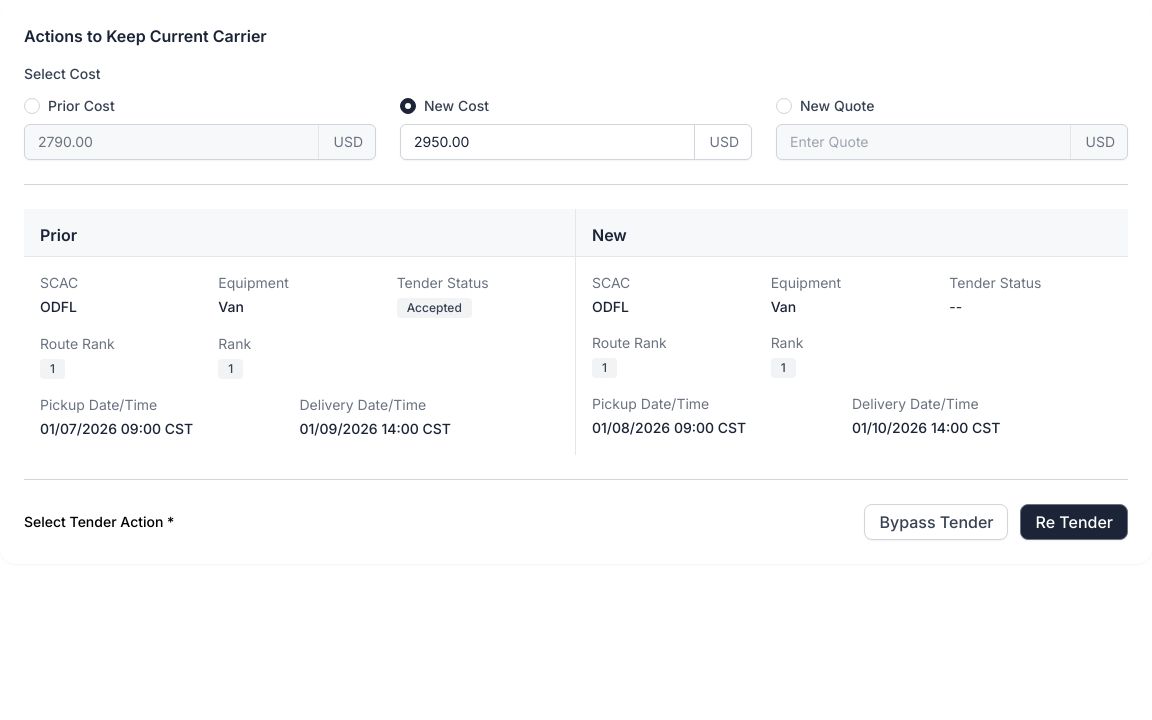
Test: OrderChangeActionsCard — New Quote flow › choosing New Quote opens the quote modal for the prior carrier
Click the radio button labelled "New Quote": (784,106) top-left (776, 98), bottom-right (792, 114)
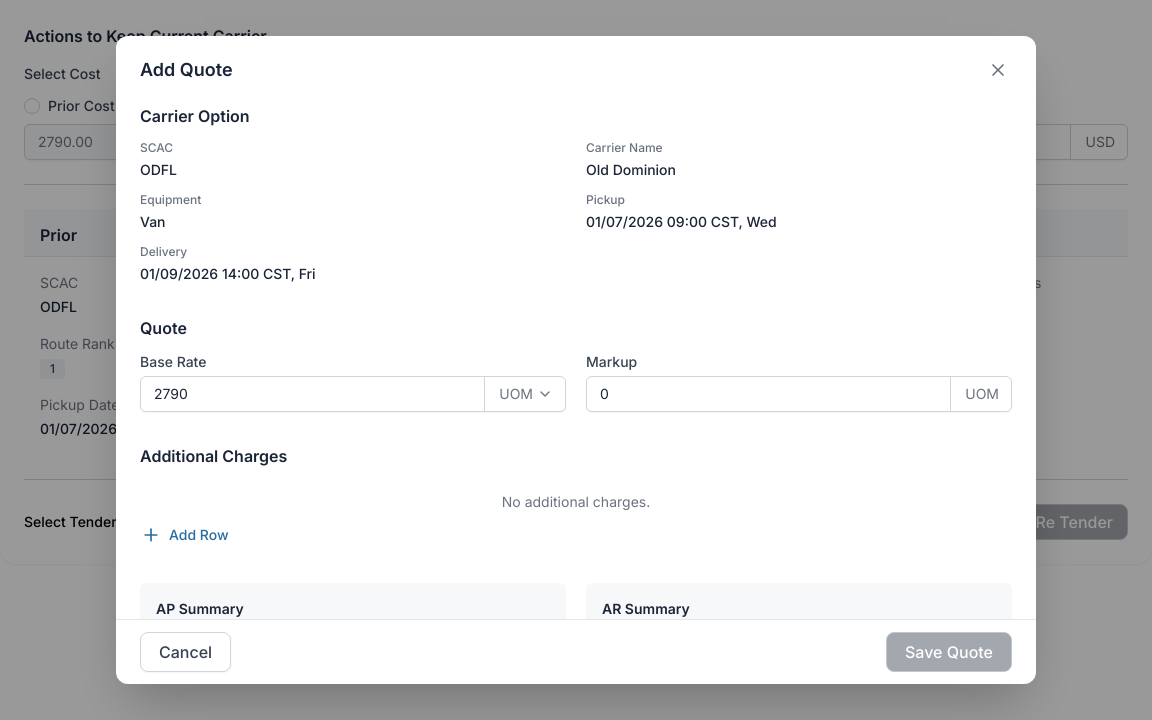
Expected: the text "ODFL" in the row of "Accepted" is shown, top-left (40, 298), bottom-right (77, 315)
Now the text "Add Quote" is shown, box top-left (140, 58), bottom-right (232, 82)
